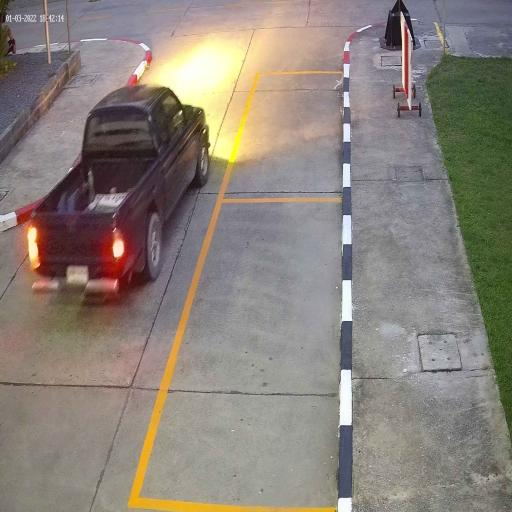car: (29, 86, 209, 294)
